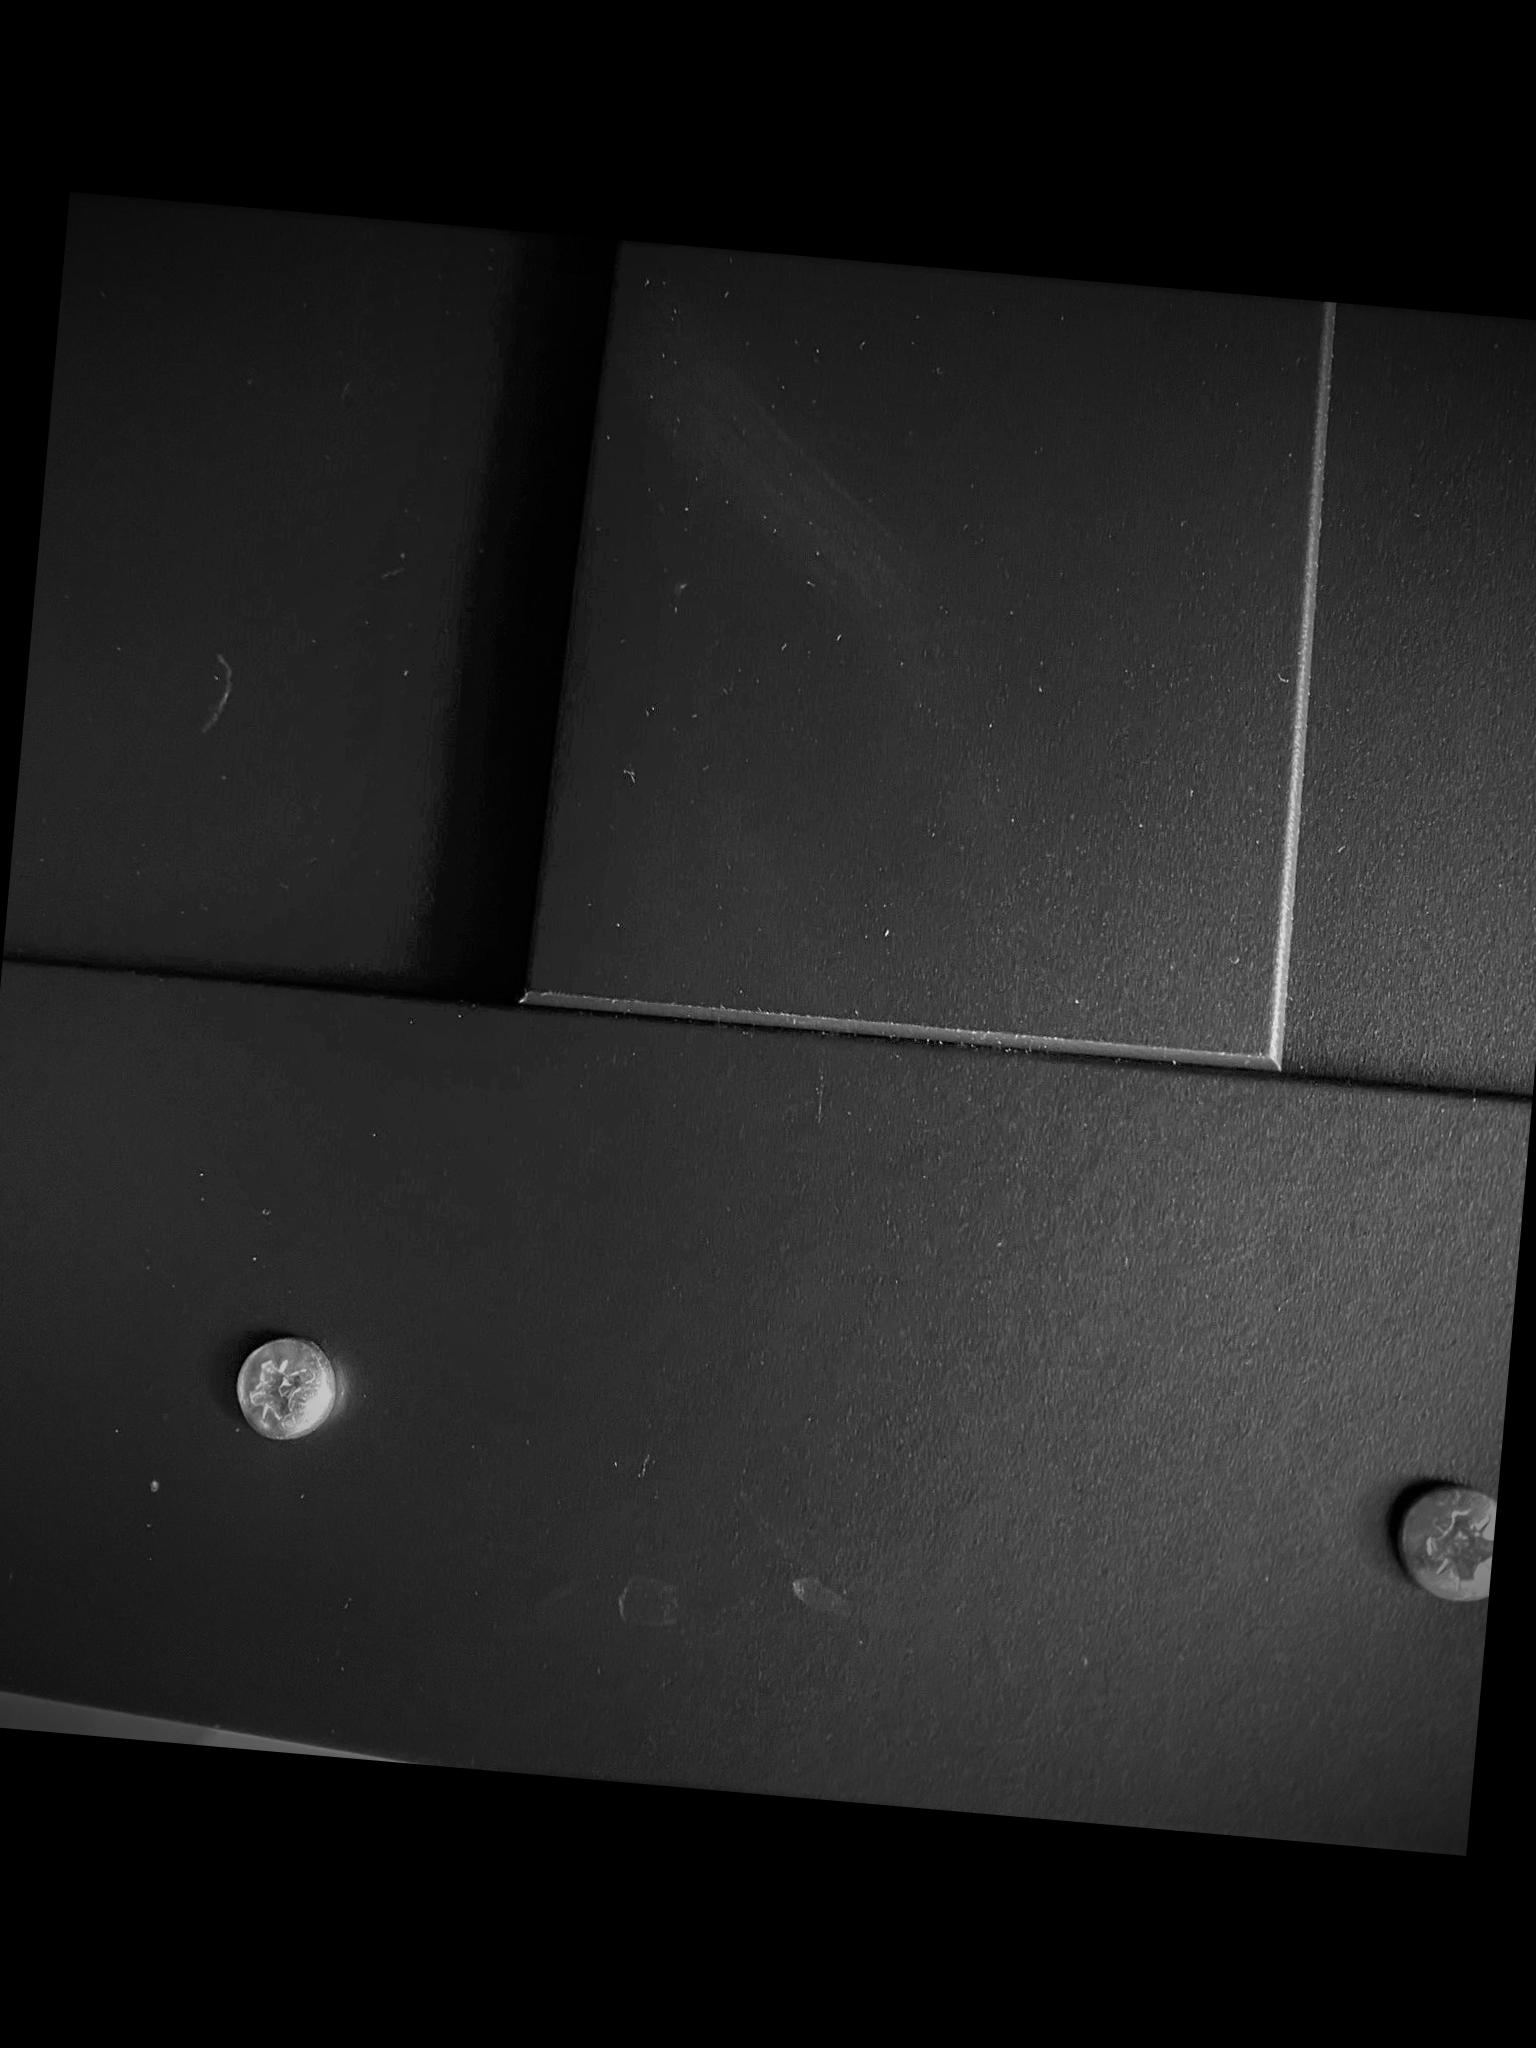PH: (1392, 1485, 1497, 1609), (227, 1330, 339, 1447)
